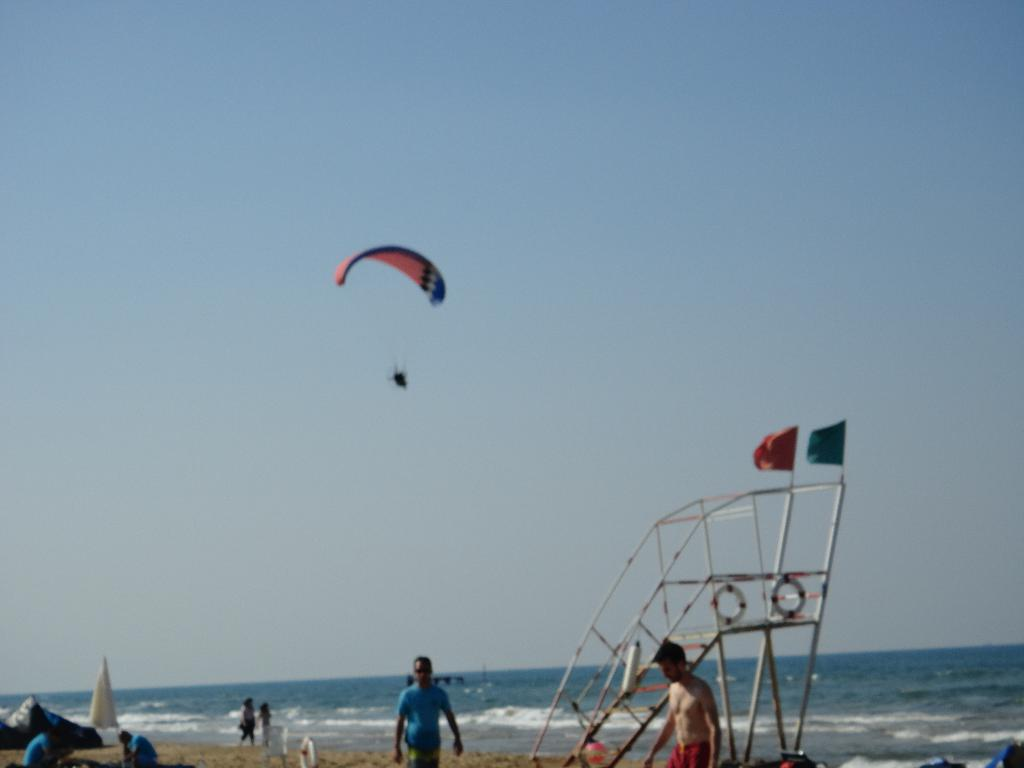Person: (21, 727, 75, 764), (118, 732, 158, 768), (239, 697, 253, 744), (258, 702, 270, 745)
